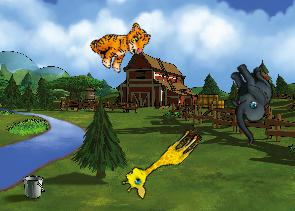elephant: (206, 56, 293, 145)
giraffe: (117, 119, 203, 203)
tiger: (85, 9, 154, 79)
